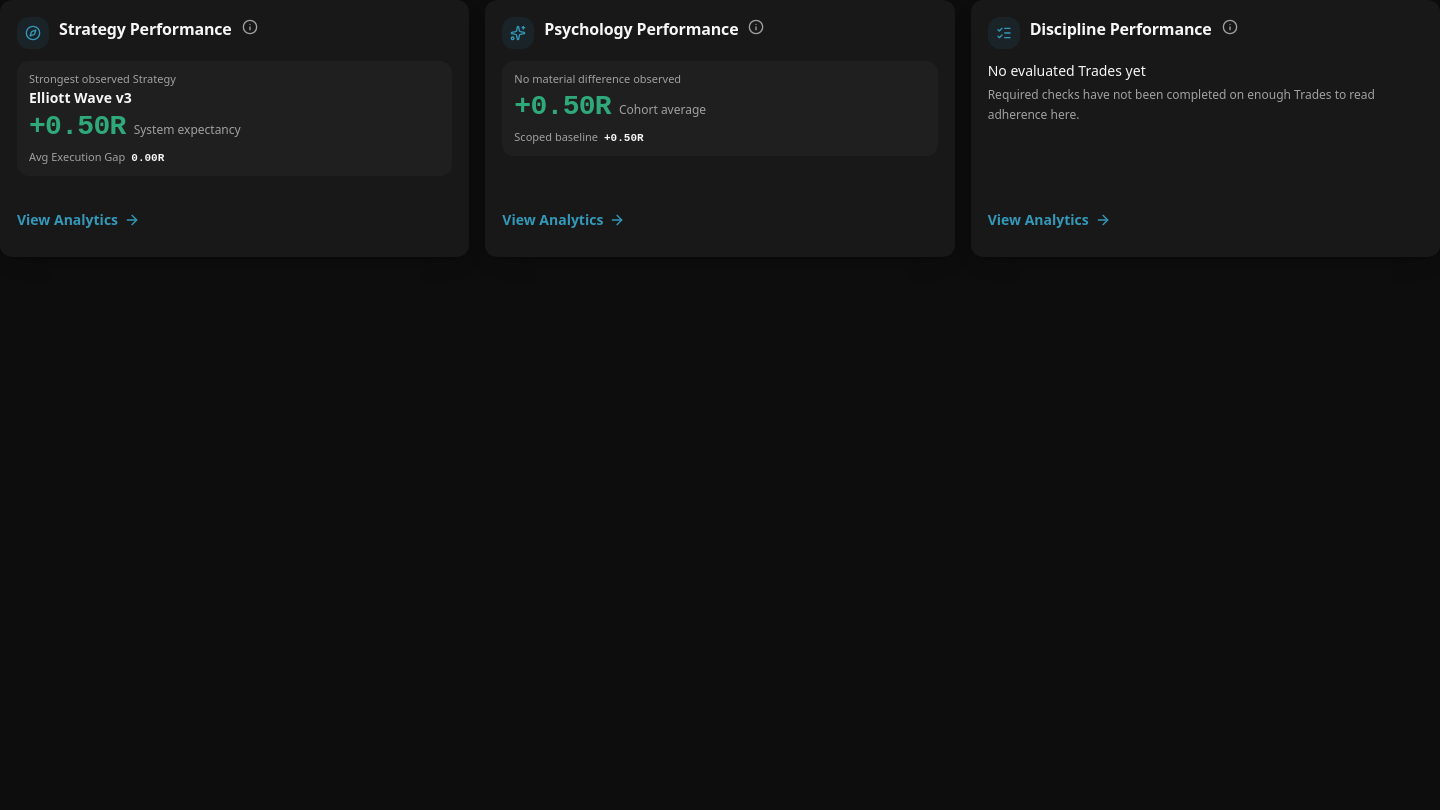
Test case: Insight pillars — Dashboard content budget › keeps the sample count and coverage reachable from the info popover
This screenshot has width=1440, height=810.
Click the button named "About Strategy Performance": click(250, 27) top-left (236, 13), bottom-right (264, 41)
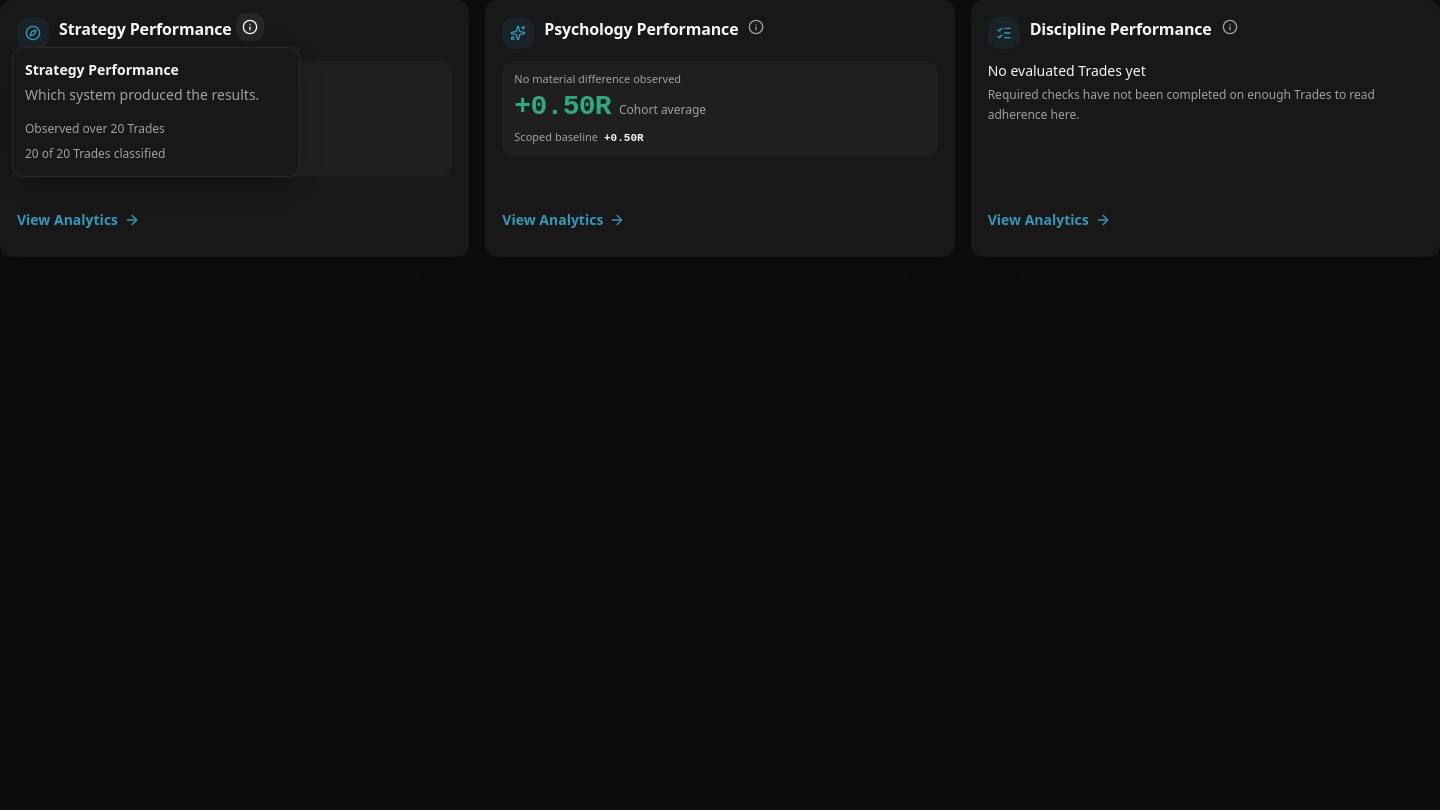
Check: the text "Observed over 20 Trades" is shown, box top-left (25, 120), bottom-right (165, 137)
